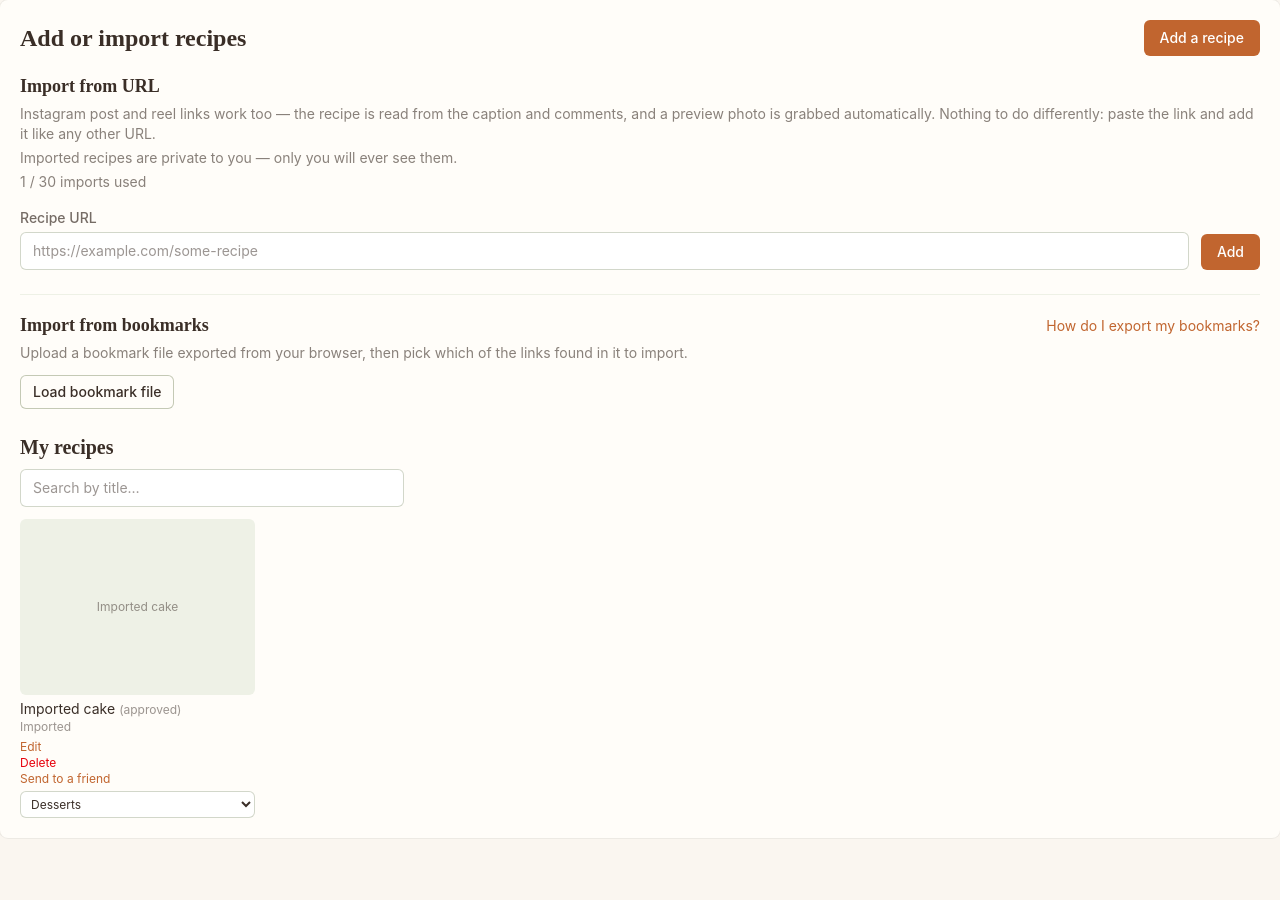
Test: ImportPage › shows an error when changing the category fails
Select "Main courses" in the dropdown named "Category" at point(138, 805), box x1=20 y1=791 x2=255 y2=818
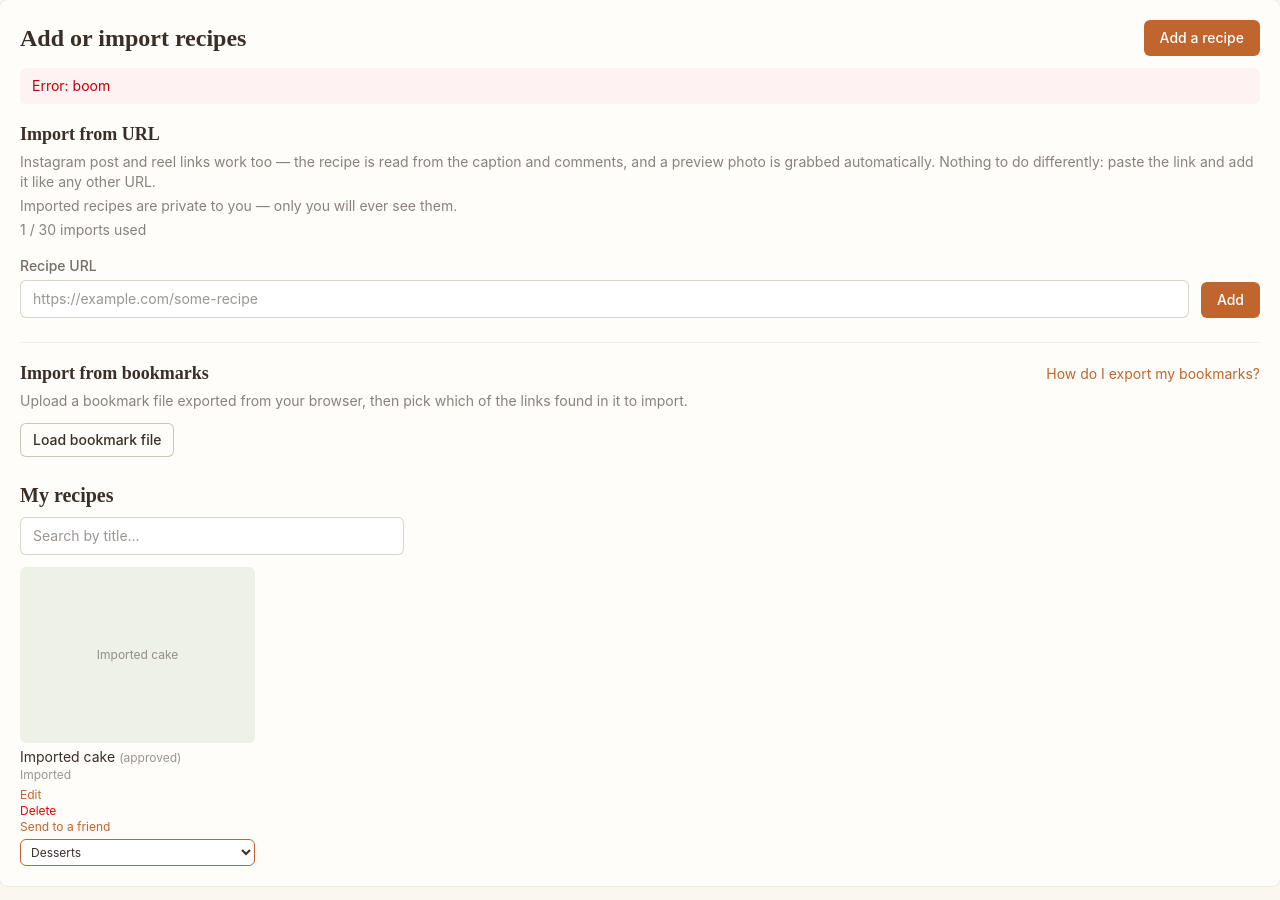
Expected: the message shows "boom", x1=32 y1=77 x2=110 y2=94
